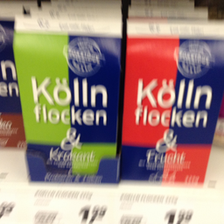cereal: (12, 27, 122, 182), (123, 37, 224, 186)
